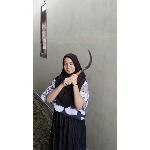Celurit: (67, 47, 95, 81)
